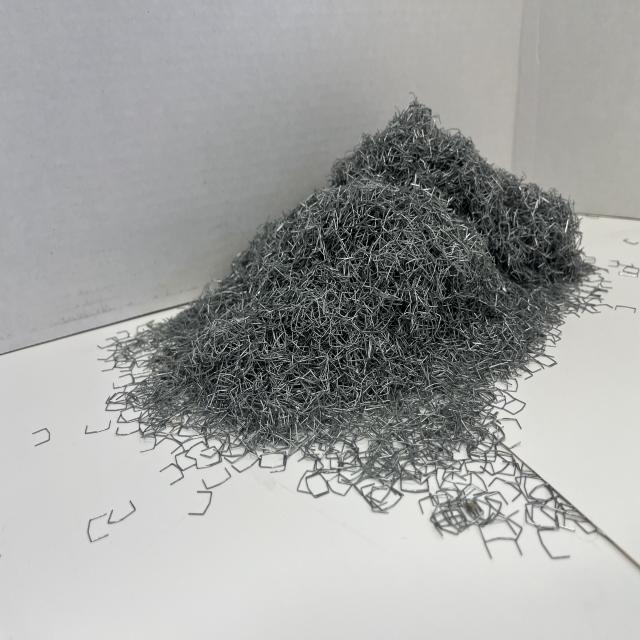staples: (101, 93, 599, 472)
